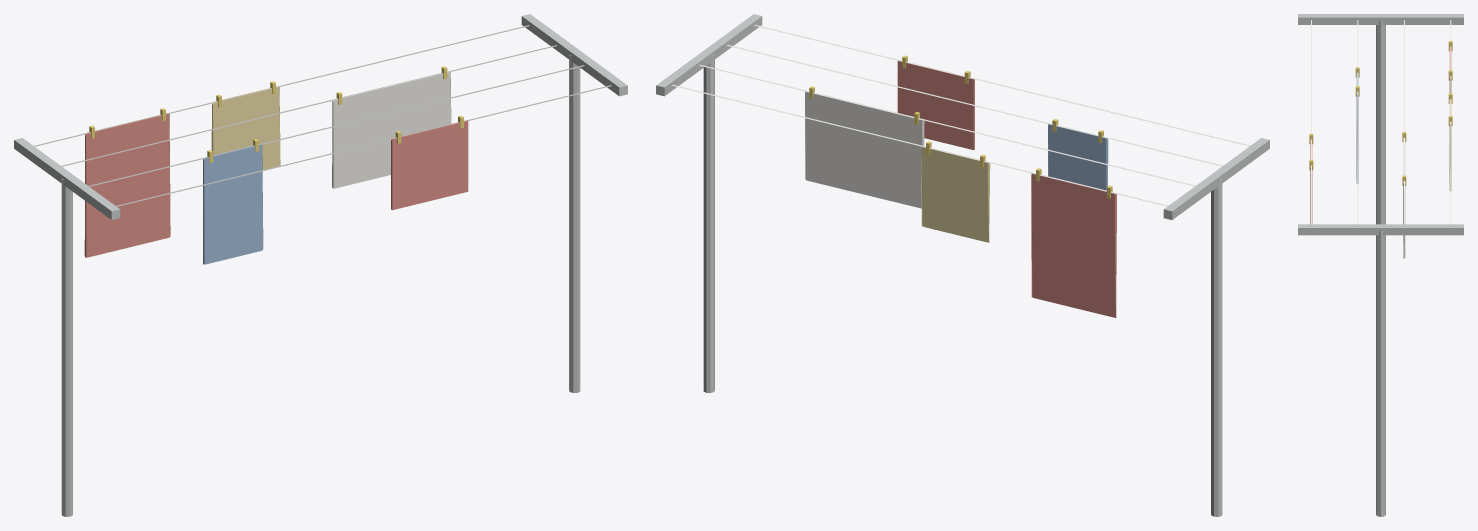
The model's file is clothesline.glb.
The picture shows the model from 3 angles, left to right: view 1: azimuth 30°, elevation 25°; view 2: azimuth 150°, elevation 25°; view 3: azimuth 270°, elevation 25°; orthographic projection. The views are drawn at different scales.
Parts seen in each view (by area): view 1: clothesline_cloth_r, clothesline_galv, clothesline_bed_w, clothesline_cloth_b, clothesline_cloth_y, clothesline_paint_w, clothesline_paint_y; view 2: clothesline_cloth_r, clothesline_galv, clothesline_bed_w, clothesline_cloth_y, clothesline_paint_w, clothesline_cloth_b; view 3: clothesline_galv, clothesline_paint_w, clothesline_paint_y, clothesline_cloth_b, clothesline_cloth_r, clothesline_cloth_y, clothesline_bed_w.
Boxes of the visible parts, left/top/right/bottom form: clothesline_cloth_r: left=84, top=113, right=468, bottom=257; clothesline_galv: left=14, top=14, right=627, bottom=516; clothesline_bed_w: left=332, top=71, right=451, bottom=188; clothesline_cloth_b: left=203, top=143, right=263, bottom=264; clothesline_cloth_y: left=211, top=86, right=280, bottom=169; clothesline_paint_w: left=34, top=25, right=611, bottom=206; clothesline_paint_y: left=89, top=66, right=463, bottom=162; clothesline_cloth_r: left=897, top=61, right=1116, bottom=317; clothesline_galv: left=656, top=14, right=1269, bottom=516; clothesline_bed_w: left=805, top=91, right=924, bottom=208; clothesline_cloth_y: left=921, top=146, right=990, bottom=242; clothesline_paint_w: left=672, top=24, right=1250, bottom=206; clothesline_cloth_b: left=1048, top=124, right=1108, bottom=190; clothesline_galv: left=1298, top=14, right=1463, bottom=516; clothesline_paint_w: left=1311, top=20, right=1451, bottom=224; clothesline_paint_y: left=1309, top=41, right=1452, bottom=185; clothesline_cloth_b: left=1356, top=73, right=1358, bottom=183; clothesline_cloth_r: left=1310, top=47, right=1451, bottom=224; clothesline_cloth_y: left=1449, top=99, right=1451, bottom=191; clothesline_bed_w: left=1403, top=138, right=1405, bottom=258.
Size of the model in its own units: 3.06 by 1.93 by 1.
